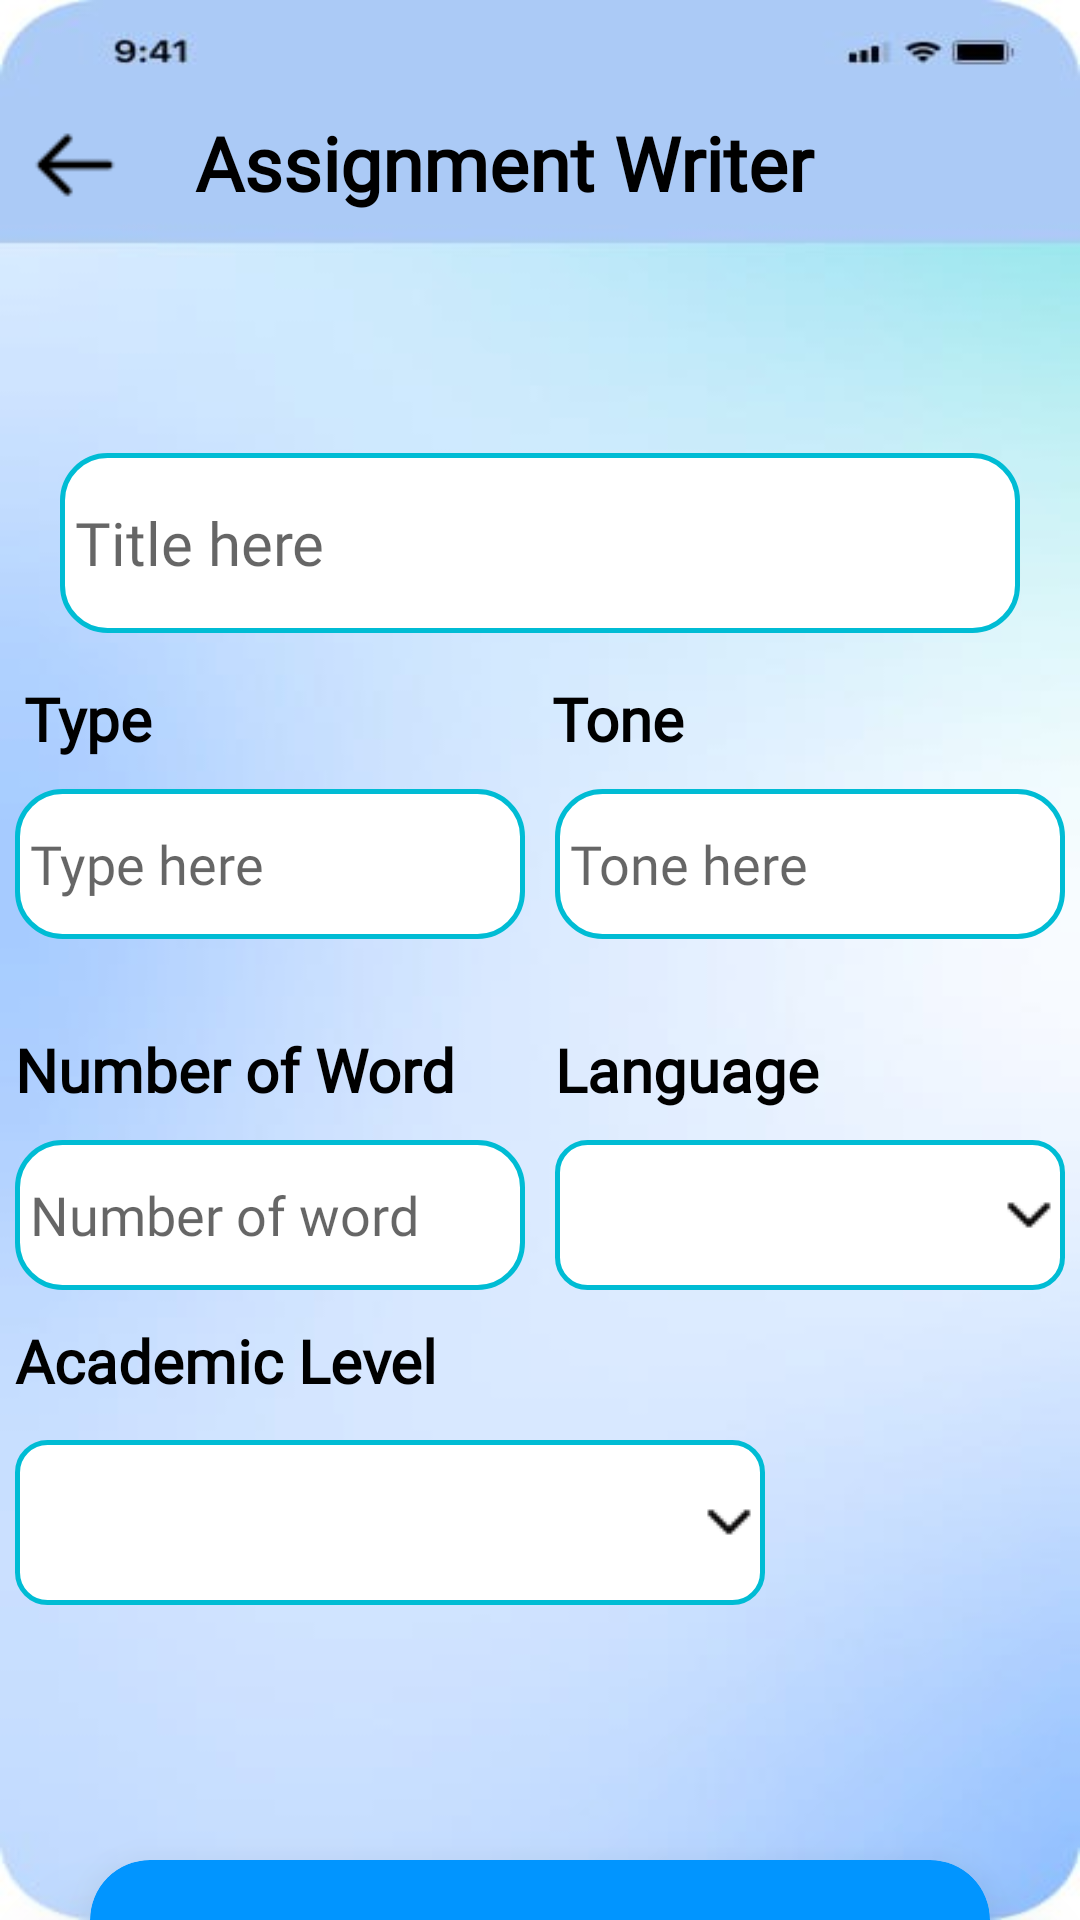

Icons on this 1080×1920 Android screen, each with the point to tap as (x,y):
back: (75,165)
